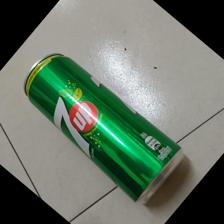7up: (22, 51, 186, 205)
